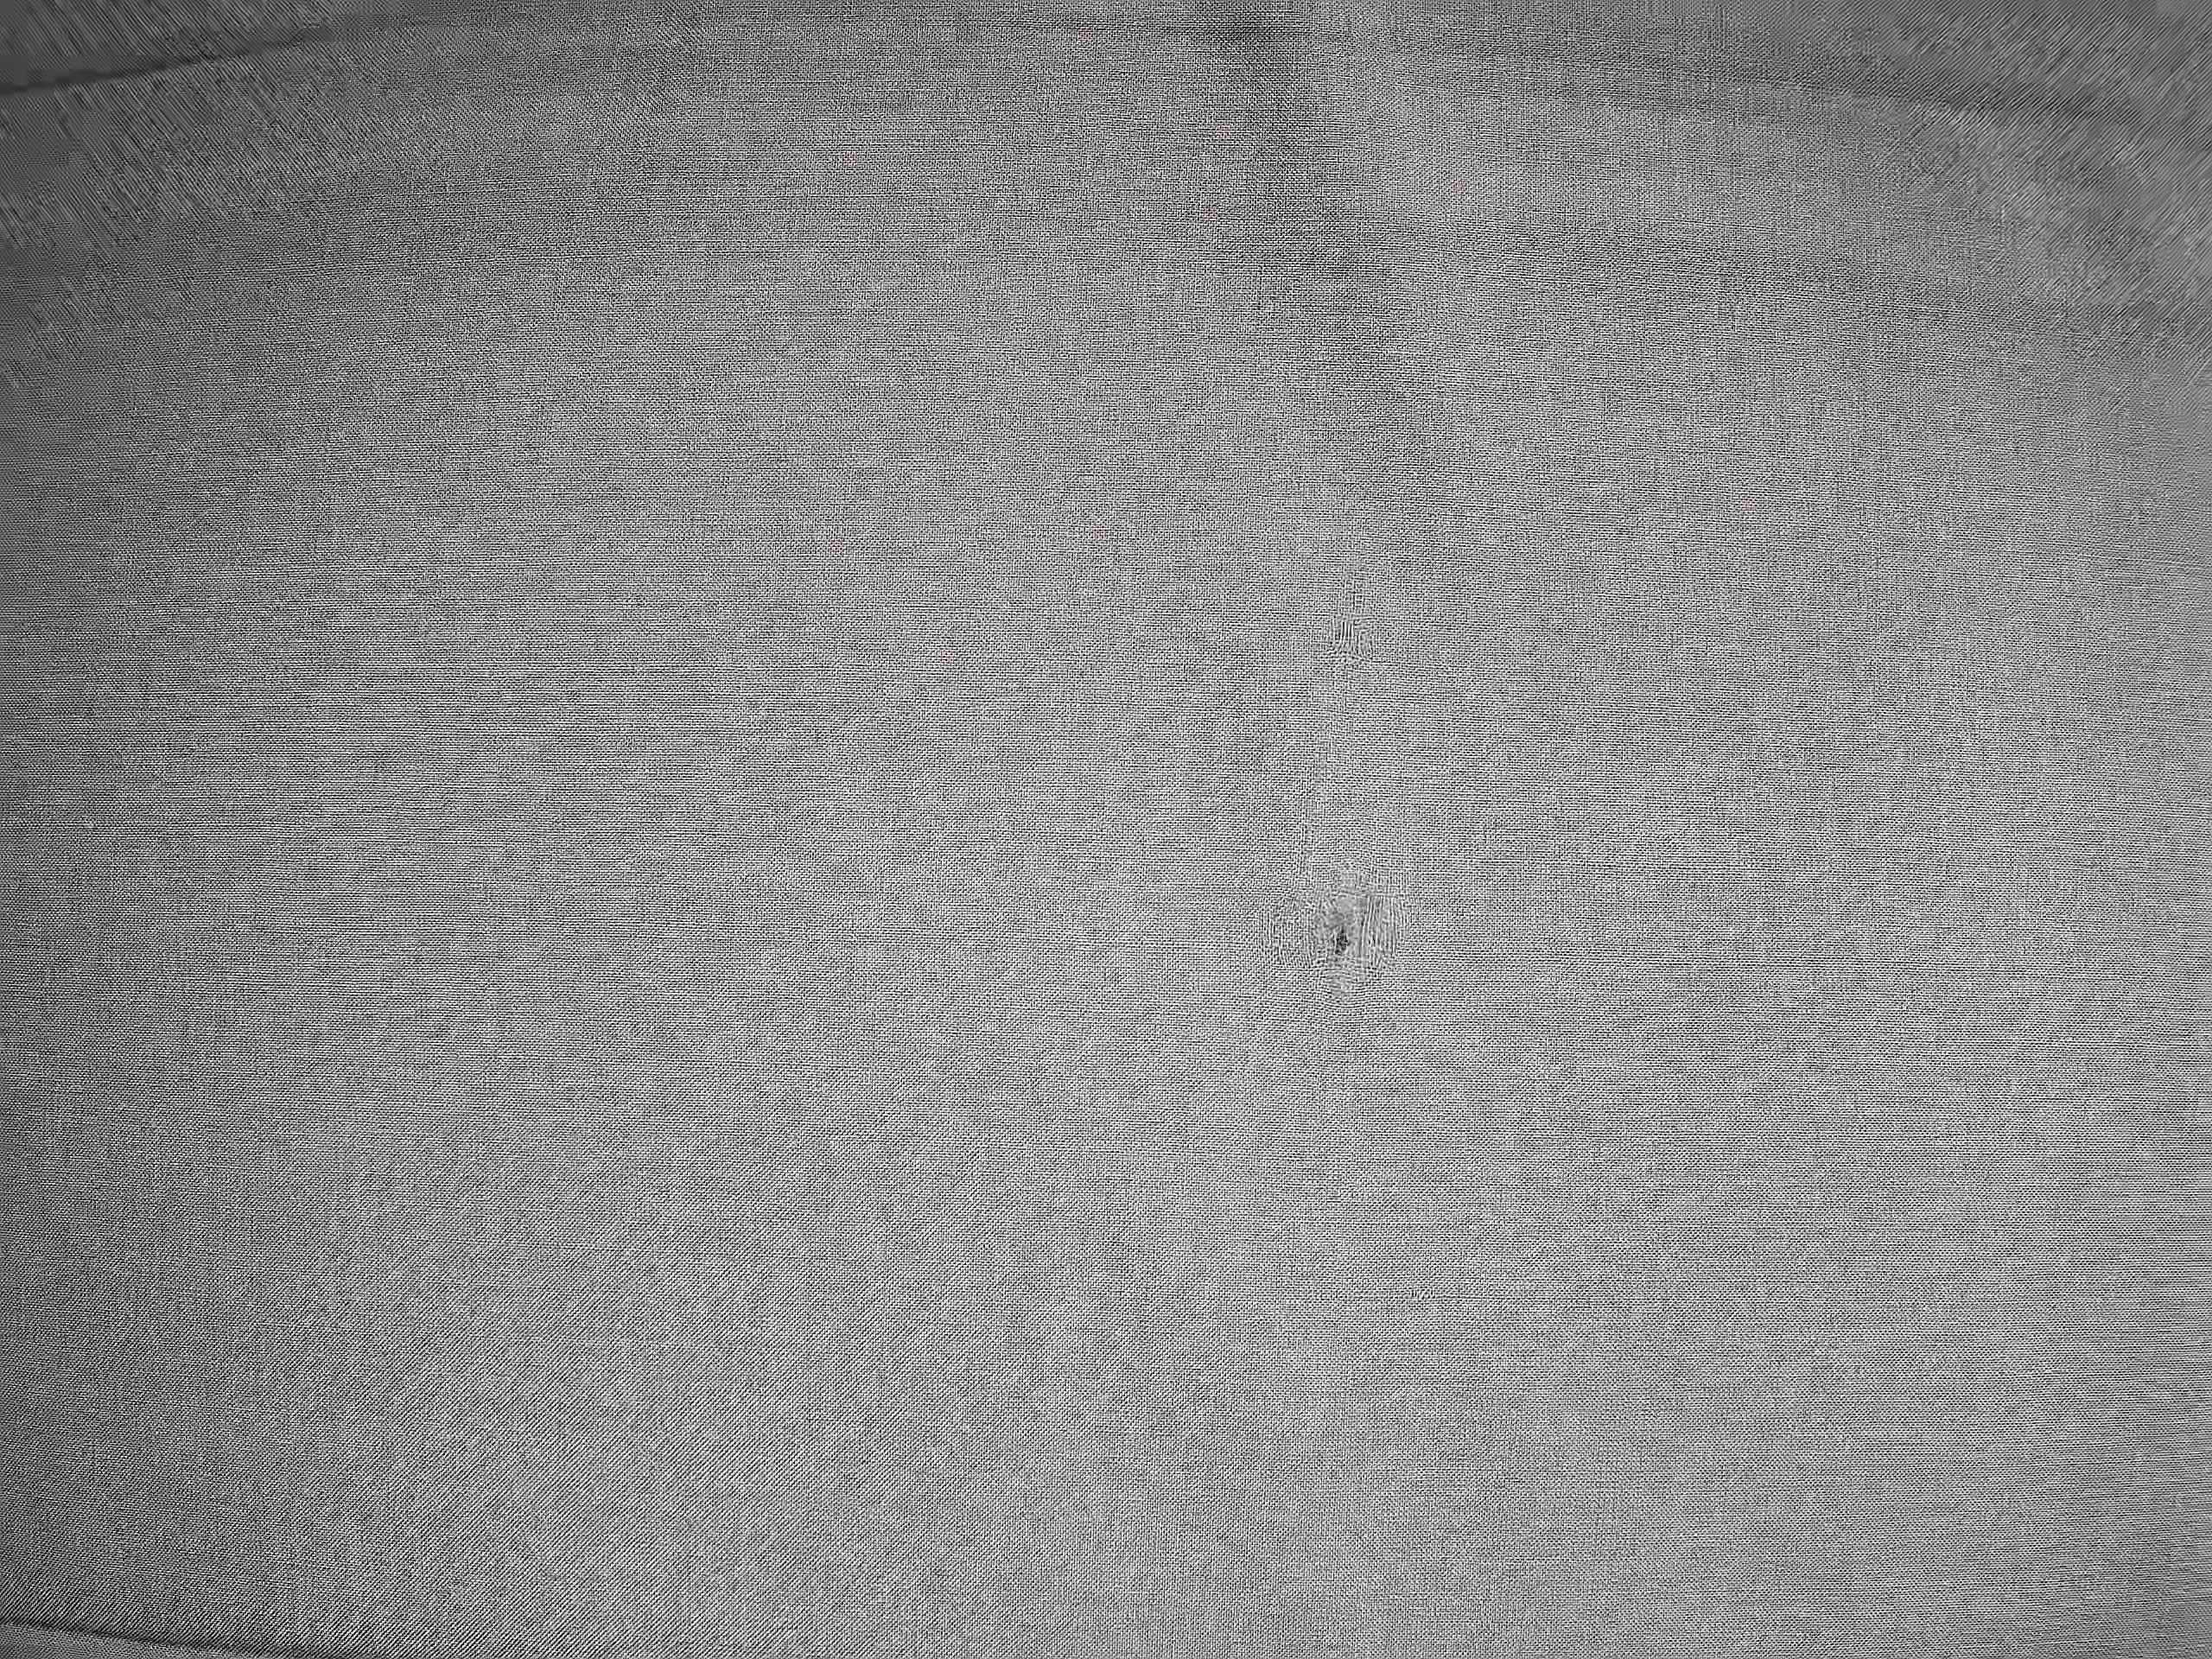brushed-hole: (1284, 863, 1402, 1004)
